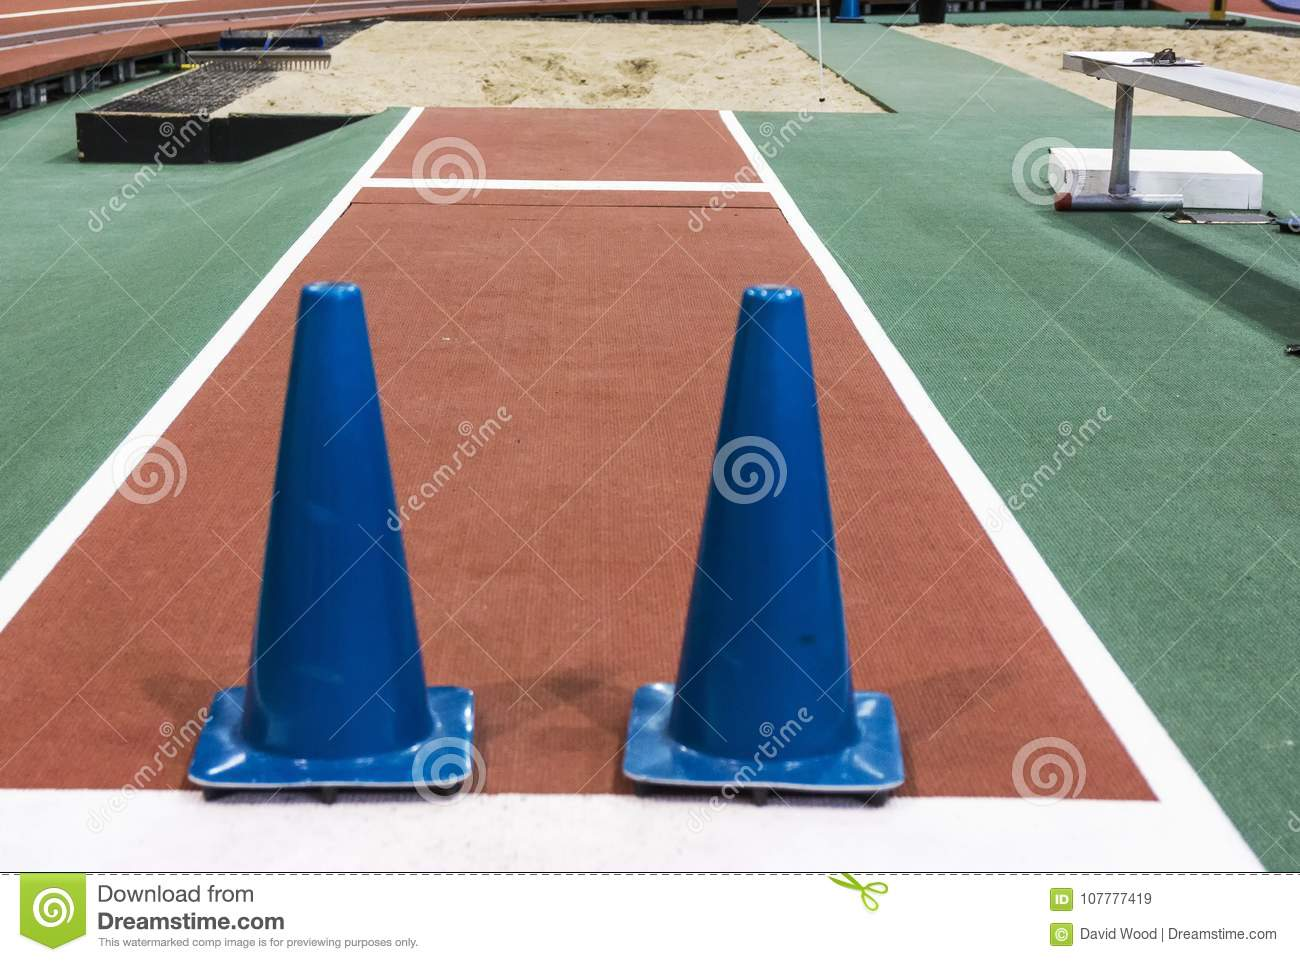cone: (185, 271, 490, 798), (607, 281, 907, 800)
